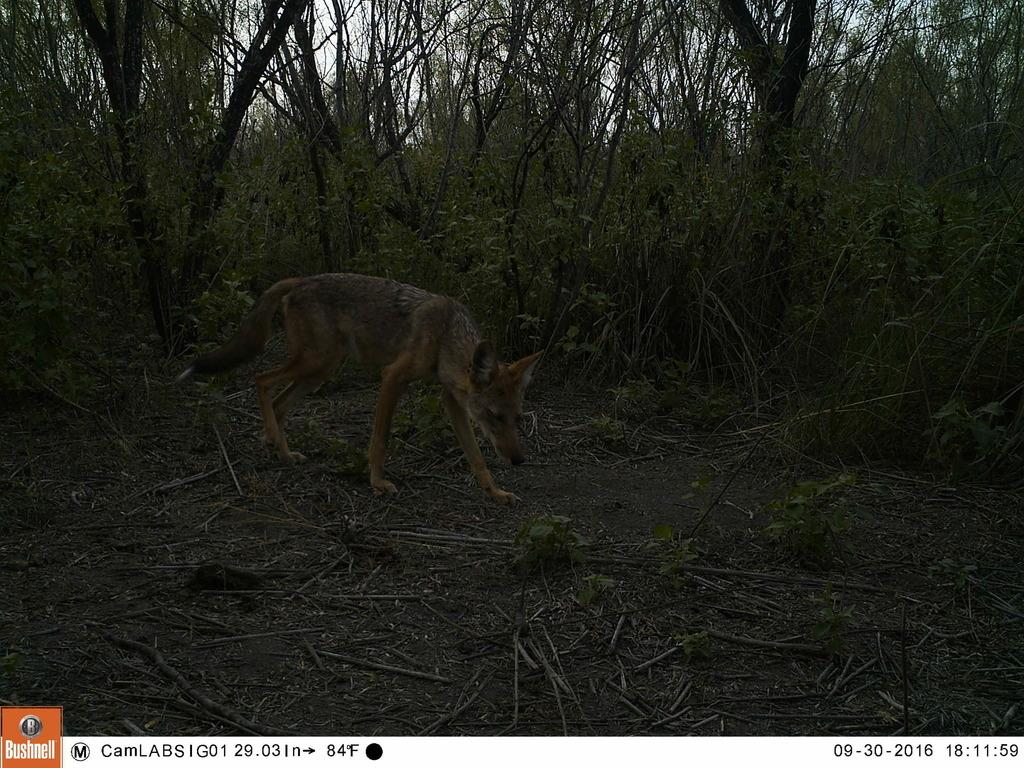Coyote: (180, 273, 537, 507)
